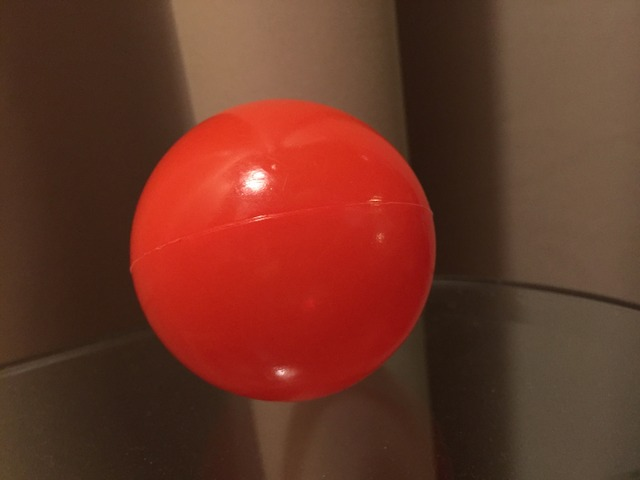Ball: (132, 100, 437, 397)
